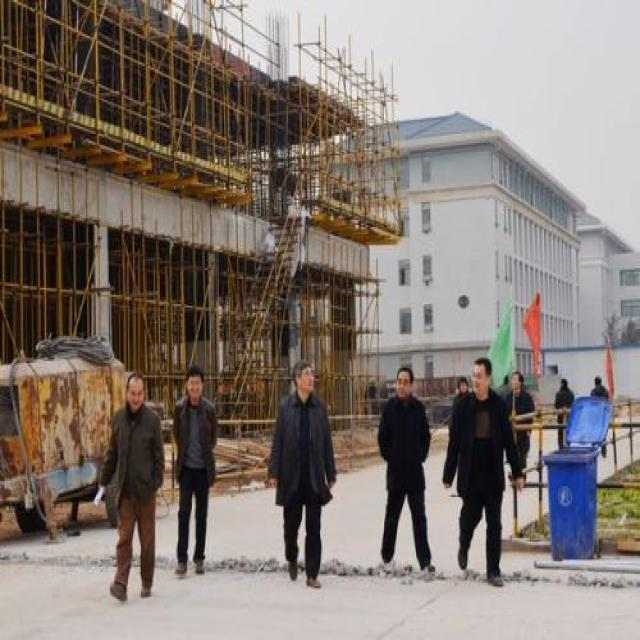no-helmet: (466, 354, 498, 399), (120, 367, 148, 411), (389, 360, 417, 402), (292, 356, 315, 395), (182, 364, 205, 398), (507, 367, 525, 395)
